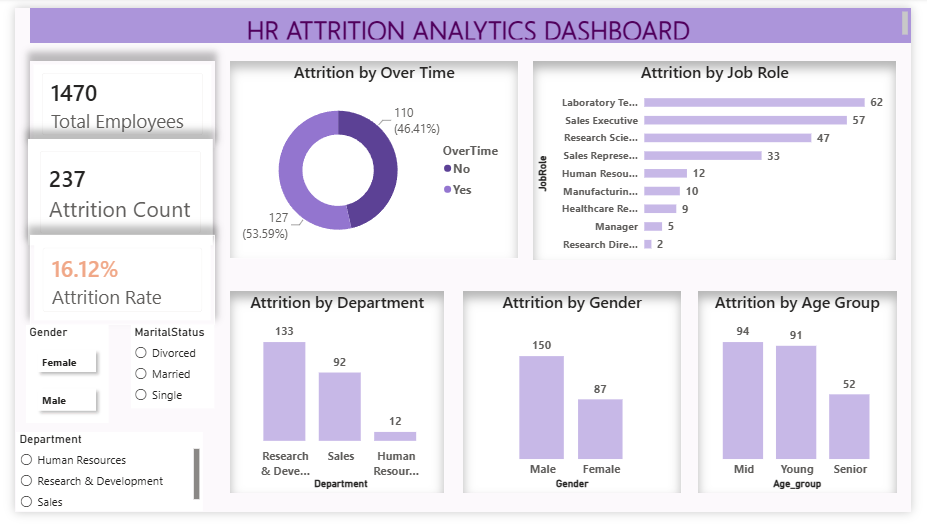

What the dashboard file says about the page in this screenshot:
{"tool":"powerbi","page":{"name":"Page 1","canvas":[1280,720],"ordinal":0},"visuals":[{"type":"columnChart","title":"Attrition by Department ","fields":{"Category":["vw_attrition_by_dept.Department"],"Y":["Sum(vw_attrition_by_dept.AttritionCount)"]},"box":[307.5,404.5,306,288.1],"z":0},{"type":"barChart","title":"Attrition by Job Role","fields":{"Category":["vw_attrition_jobrole.JobRole"],"Y":["Sum(vw_attrition_jobrole.AttritionCount)"]},"box":[740.3,76.1,519.4,283.6],"z":1000},{"type":"columnChart","title":" Attrition by Age Group","fields":{"Y":["Sum(vw_age_group.AttritionCount)"],"Category":["vw_age_group.Age_group"]},"box":[976.1,404.5,283.6,288.1],"z":2000},{"type":"donutChart","title":"Attrition by Over Time","fields":{"Category":["vw_attrition_overtime.OverTime"],"Y":["Sum(vw_attrition_overtime.AttritionCount)"]},"box":[307.5,76.1,411.9,282.1],"z":3000},{"type":"cardVisual","fields":{"Data":["employee_attrition.Total Employees"]},"box":[20.9,76.1,264.2,123.9],"z":4000},{"type":"cardVisual","fields":{"Data":["employee_attrition.Attrition Count"]},"box":[17.9,186.6,264.2,152.2],"z":5000},{"type":"cardVisual","fields":{"Data":["employee_attrition.Attrition Rate"]},"box":[20.9,323.9,264.2,128.4],"z":6000},{"type":"textbox","box":[21.1,0,1259.2,50],"z":7000},{"type":"advancedSlicerVisual","fields":{"Values":["employee_attrition.Gender"]},"box":[16.4,452.2,117.9,140.3],"z":8000},{"type":"columnChart","title":"Attrition by Gender","fields":{"Category":["employee_attrition.Gender"],"Y":["employee_attrition.Attrition Count"]},"box":[640.3,404.5,311.9,288.1],"z":9000},{"type":"listSlicer","fields":{"Values":["employee_attrition.MaritalStatus"]},"box":[165.7,452.2,119.4,119.4],"z":10000},{"type":"listSlicer","fields":{"Values":["employee_attrition.Department"]},"box":[1.5,606,267.2,113.4],"z":11000}]}

Visuals, with their boxes in screenshot pixels (x1, y1, x2, y2), scaled from the page's 1280x720 canvas onto the 927x527 screenshot:
"Attrition by Department " columnChart: pyautogui.locateOnScreen(223, 296, 444, 507)
"Attrition by Job Role" barChart: pyautogui.locateOnScreen(536, 56, 912, 263)
" Attrition by Age Group" columnChart: pyautogui.locateOnScreen(707, 296, 912, 507)
"Attrition by Over Time" donutChart: pyautogui.locateOnScreen(223, 56, 521, 262)
cardVisual - employee_attrition.Total Employees: pyautogui.locateOnScreen(15, 56, 206, 146)
cardVisual - employee_attrition.Attrition Count: pyautogui.locateOnScreen(13, 137, 204, 248)
cardVisual - employee_attrition.Attrition Rate: pyautogui.locateOnScreen(15, 237, 206, 331)
textbox: pyautogui.locateOnScreen(15, 0, 926, 37)
advancedSlicerVisual - employee_attrition.Gender: pyautogui.locateOnScreen(12, 331, 97, 434)
"Attrition by Gender" columnChart: pyautogui.locateOnScreen(464, 296, 690, 507)
listSlicer - employee_attrition.MaritalStatus: pyautogui.locateOnScreen(120, 331, 206, 418)
listSlicer - employee_attrition.Department: pyautogui.locateOnScreen(1, 444, 195, 526)
